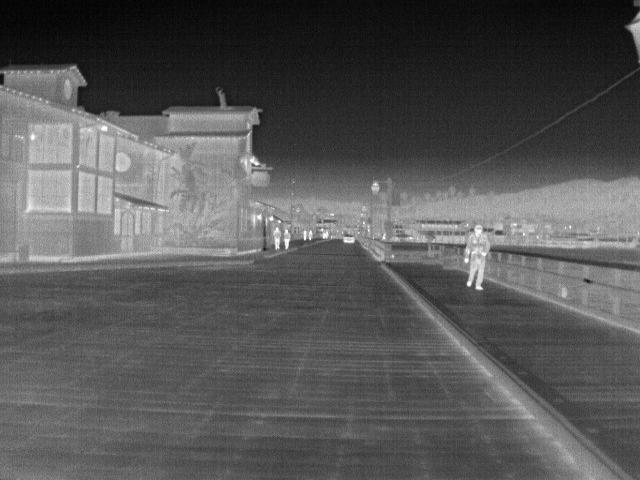car: (341, 234, 358, 246)
person: (461, 222, 493, 292), (278, 226, 294, 251), (271, 221, 283, 251), (302, 227, 309, 242), (306, 228, 313, 241)
